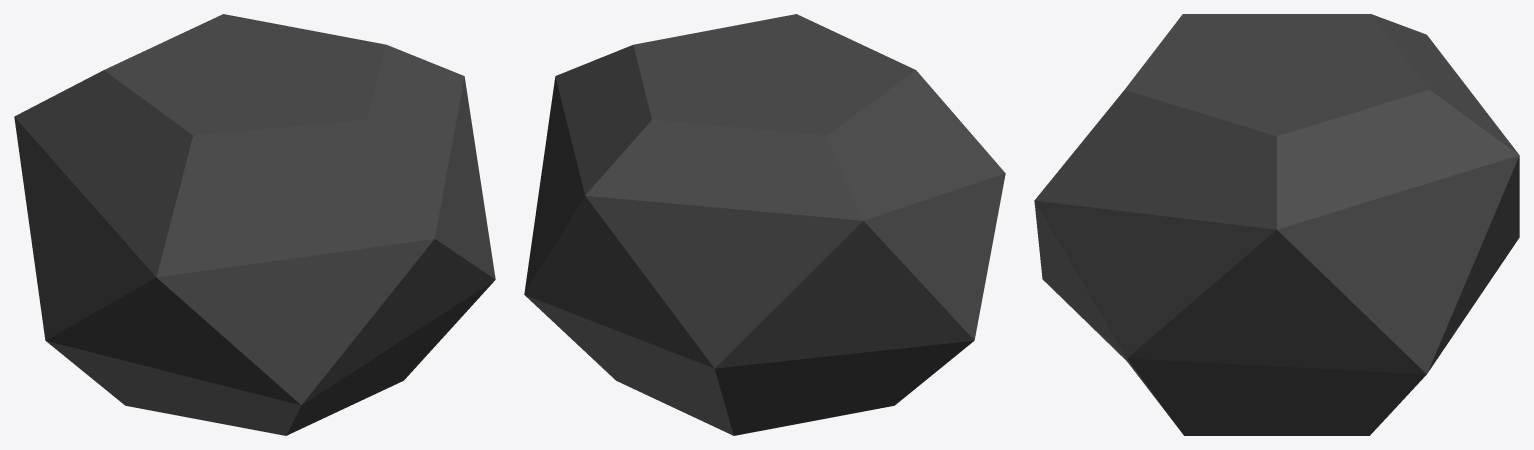
Rendered from rock_3a.fbx.
3 views of the same model, side by side, from view 1: azimuth 30°, elevation 25°; view 2: azimuth 150°, elevation 25°; view 3: azimuth 270°, elevation 25° (orthographic). The views are drawn at different scales.
Parts seen in each view (by area): view 1: rock_3a; view 2: rock_3a; view 3: rock_3a.
Boxes of the visible parts, left/top/right/bottom form: rock_3a: left=14, top=14, right=495, bottom=435; rock_3a: left=524, top=14, right=1005, bottom=435; rock_3a: left=1034, top=14, right=1519, bottom=435.
Bounding box in the file's own units: 449 × 305 × 427.
